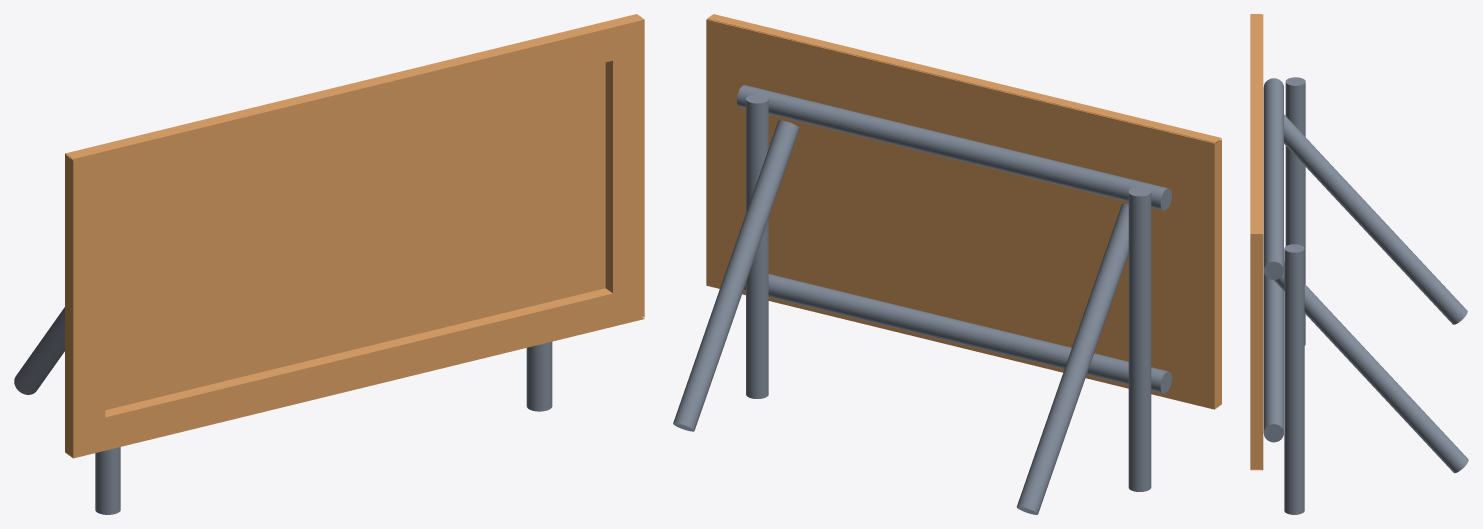
The picture shows the model from 3 angles, left to right: view 1: azimuth 30°, elevation 25°; view 2: azimuth 150°, elevation 25°; view 3: azimuth 270°, elevation 25°; orthographic projection. The views are drawn at different scales.
Parts seen in each view (by area): view 1: 看板; view 2: 看板; view 3: 看板.
Part boxes in pixels (box(x1,y1,x2,y2)): 看板: box(14, 14, 644, 514); 看板: box(673, 14, 1221, 514); 看板: box(1250, 14, 1468, 514).
Size of the model in its own units: 3.6 by 2.34 by 1.51.
